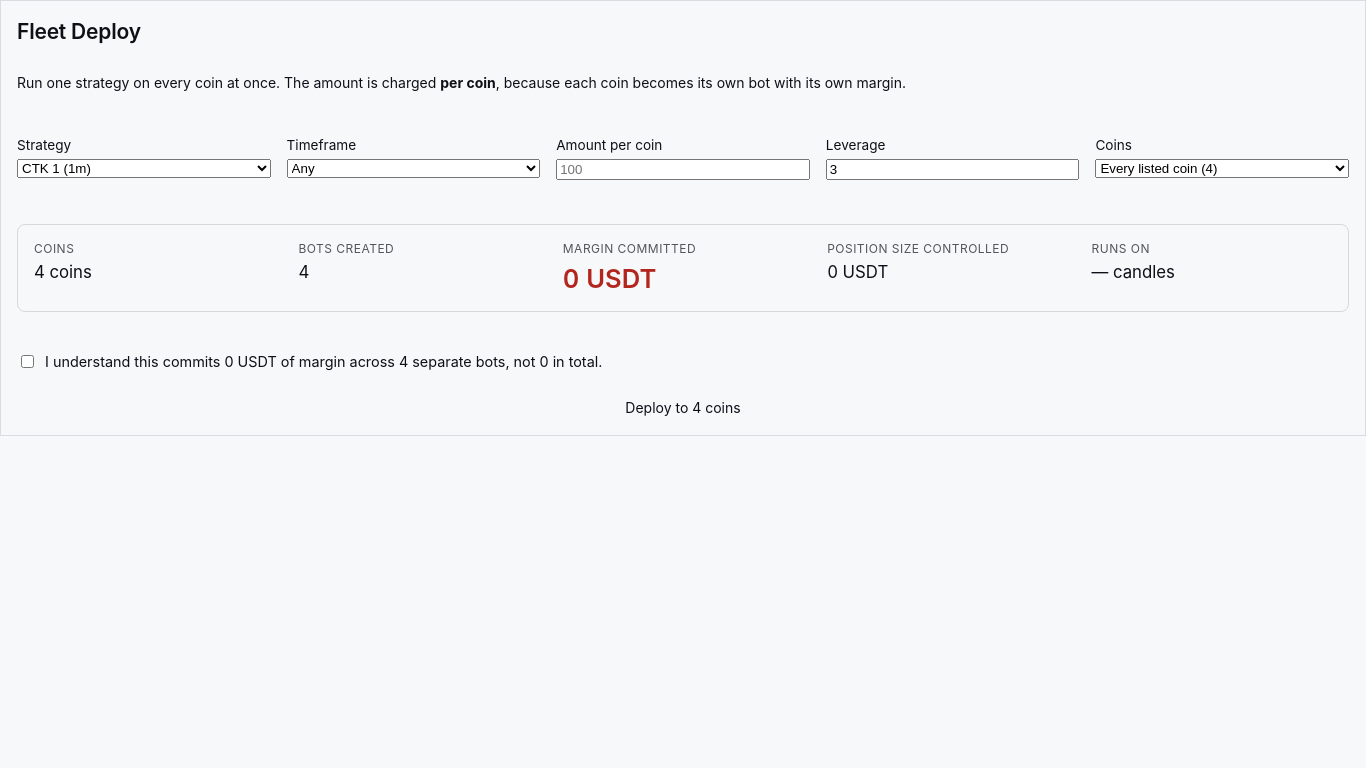
Scenario: reports which coins failed rather than claiming the fleet is running
Step 1. Type "10" into the number field labelled "Amount per coin" → (683, 170), box left=556, top=159, right=810, bottom=180
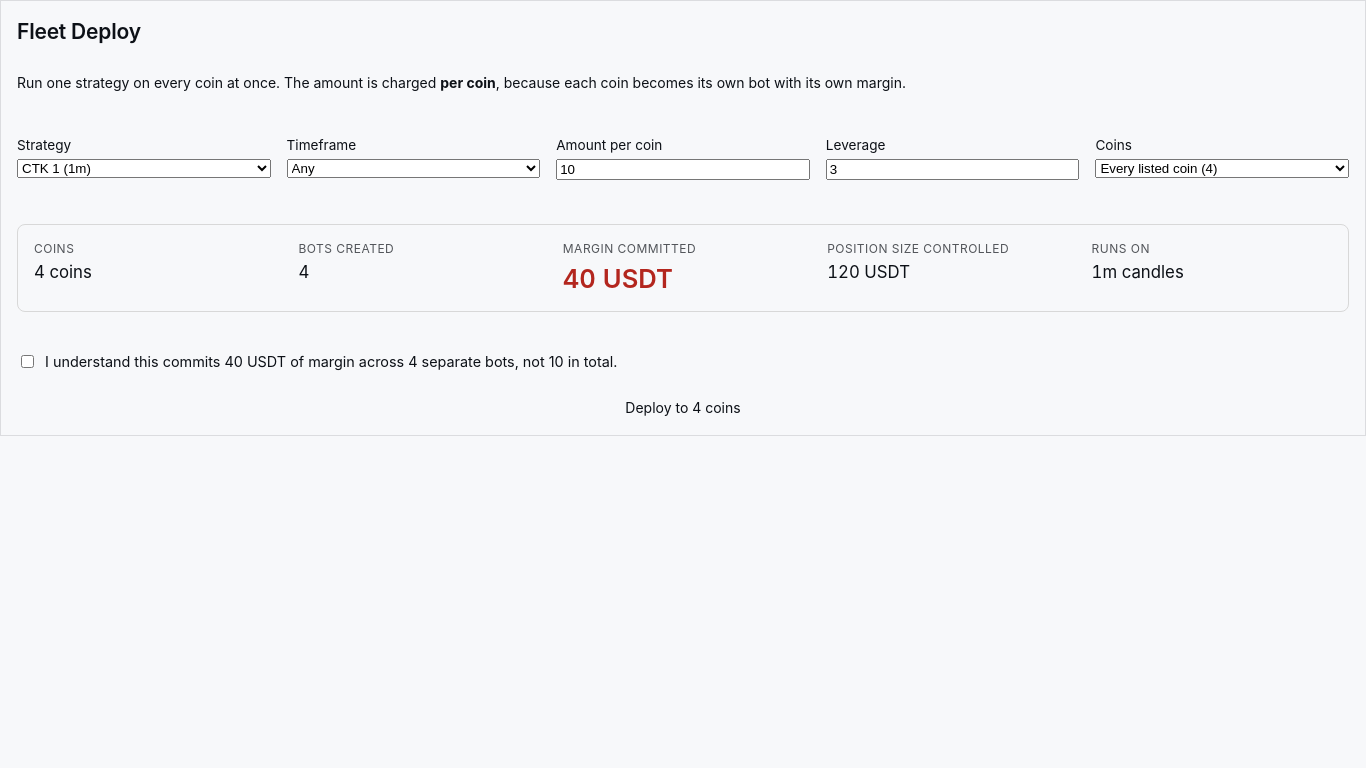
Step 2. Click the checkbox labelled "I understand" → (28, 362), box left=21, top=355, right=34, bottom=368
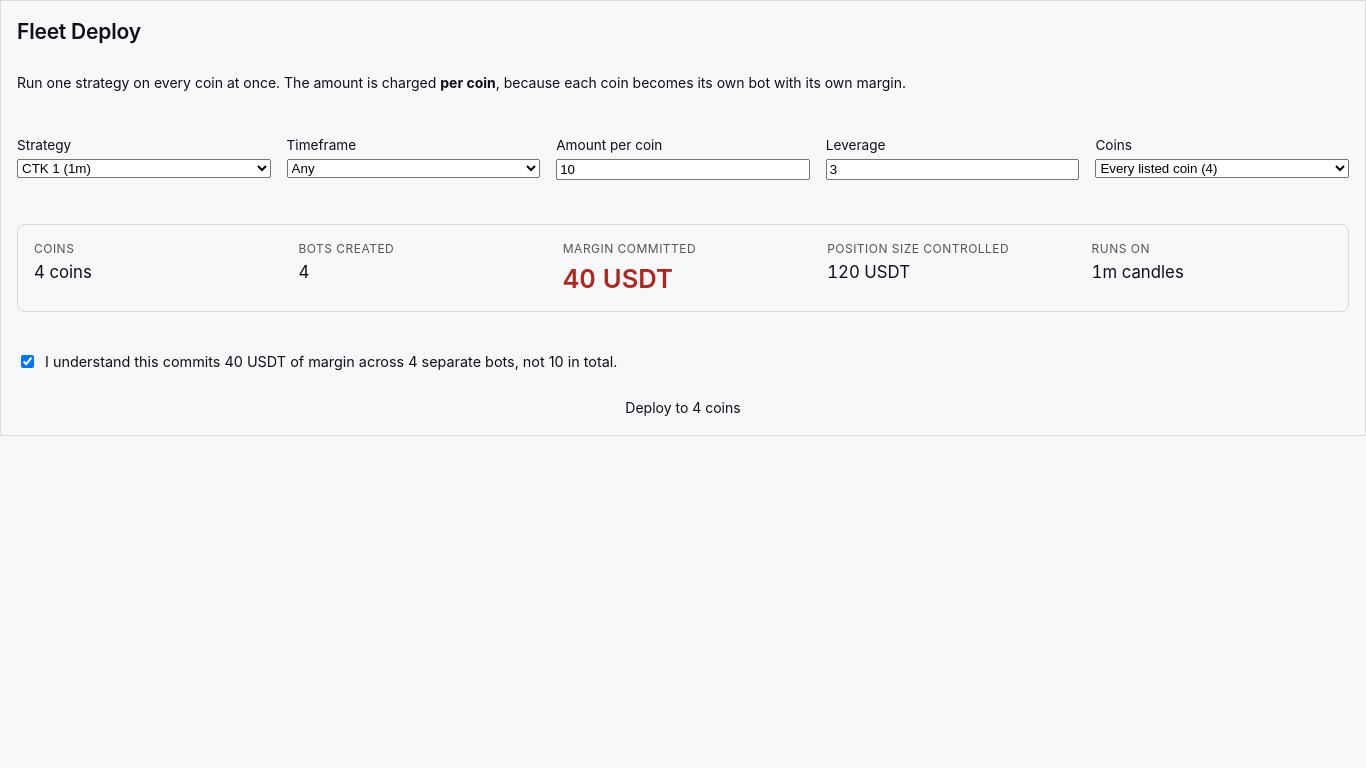
Step 3. Click the button "Deploy to 4 coins" → (683, 408), box left=17, top=397, right=1349, bottom=419
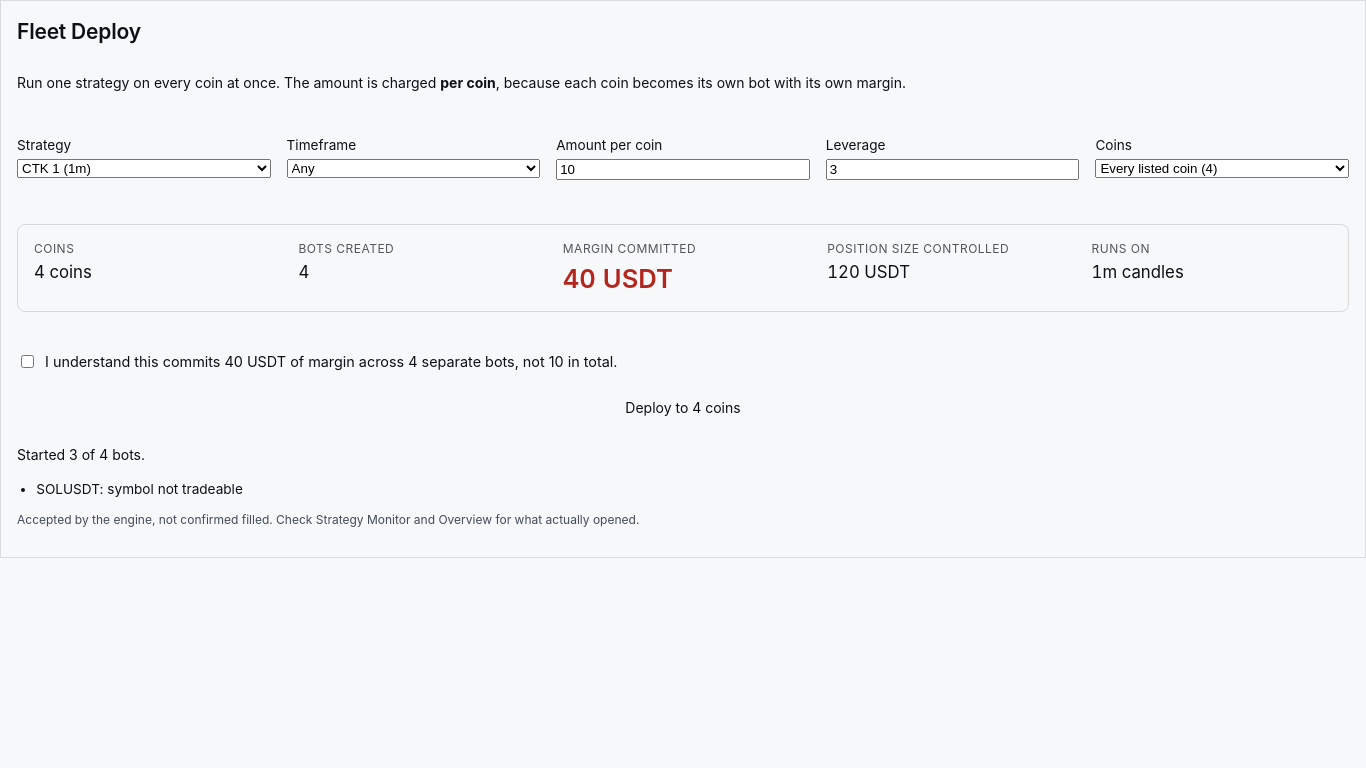
Expected: the text "Started 3 of 4 bots." is shown, left=17, top=446, right=145, bottom=463
Expected: the list item "SOLUSDT: symbol not tradeable" is shown, left=36, top=481, right=243, bottom=497
